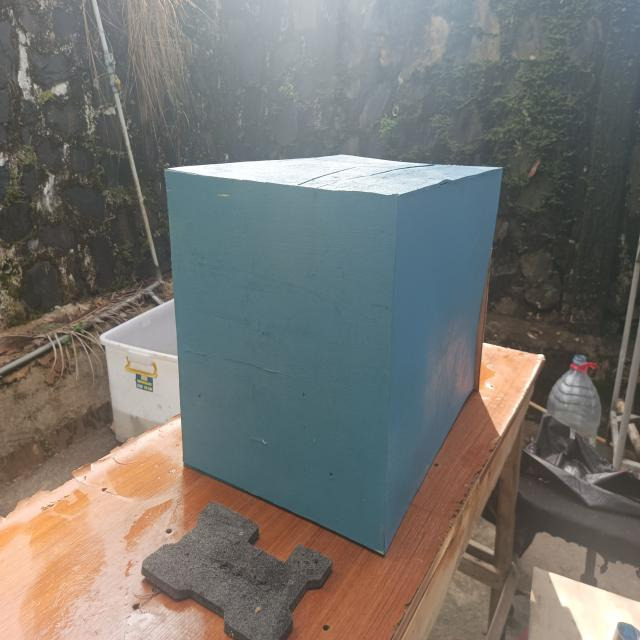blue_box: (157, 153, 504, 545)
